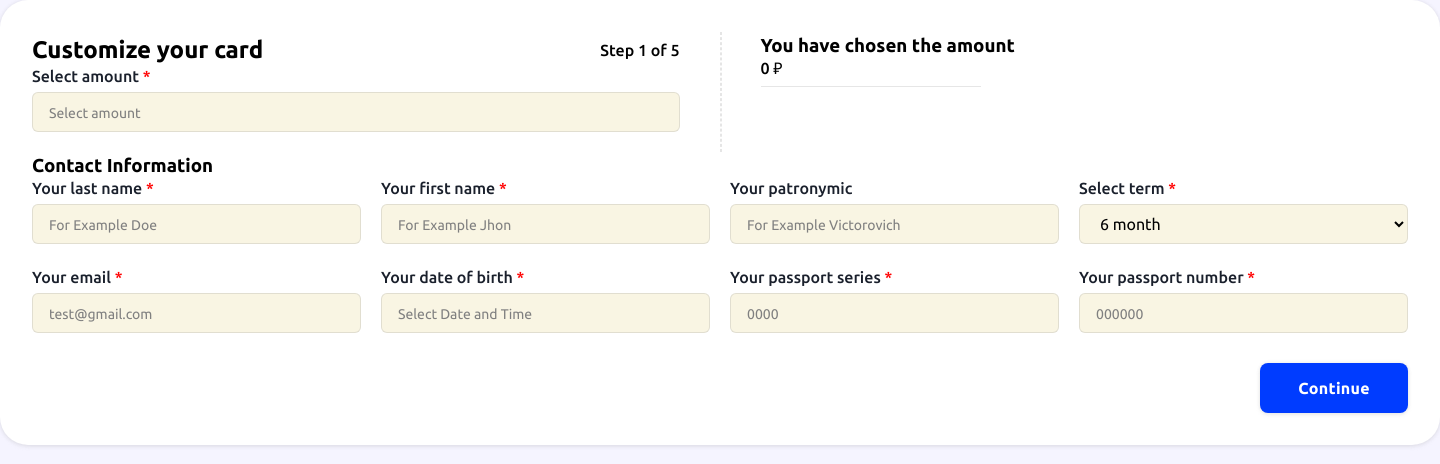
Prescoring › Invalid data
Click the button at (1334, 388), box top-left (1260, 363), bottom-right (1408, 413)
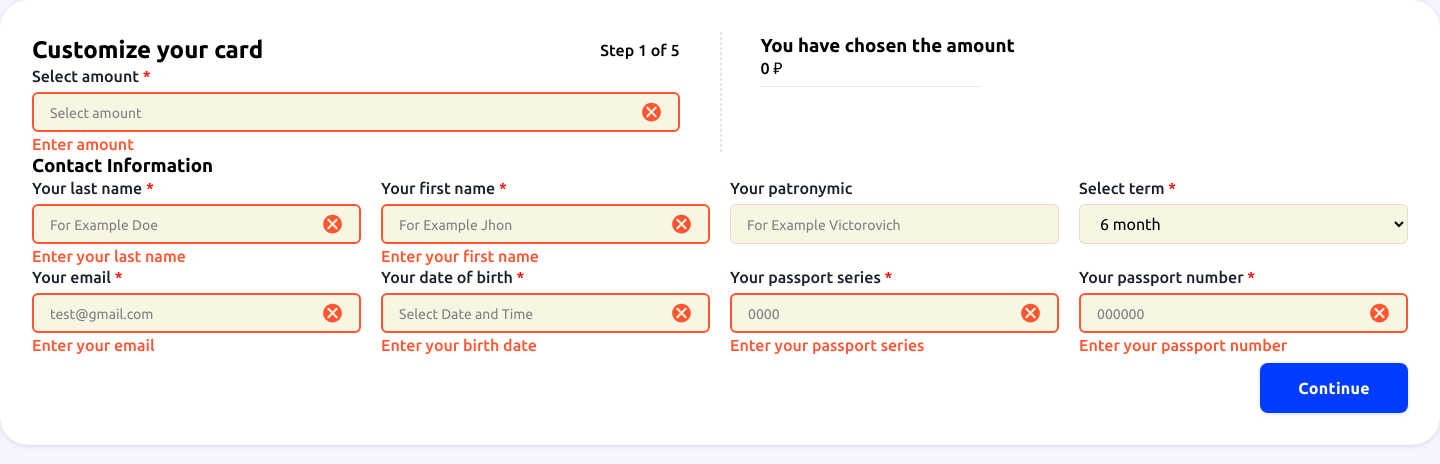
Expected: the text "Enter amount" is shown, top-left (32, 136), bottom-right (134, 152)
Expected: the text "Enter your last name" is shown, top-left (32, 248), bottom-right (186, 264)
Expected: the text "Enter your first name" is shown, top-left (381, 248), bottom-right (539, 264)
